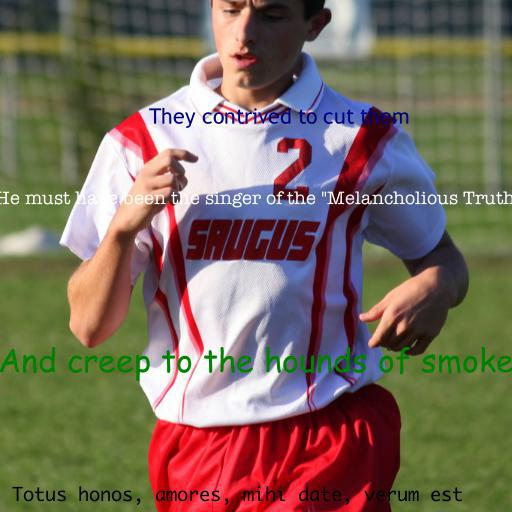American Typewriter: (0, 191, 512, 208)
Comic Sans MS: (0, 346, 512, 382)
Monaco: (11, 486, 463, 505)
Trebuchet MS: (148, 107, 410, 129)
